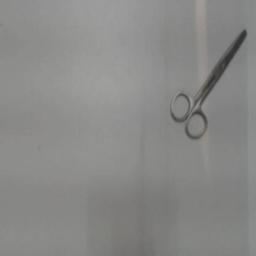Dressing Scissors: (164, 24, 252, 146)
